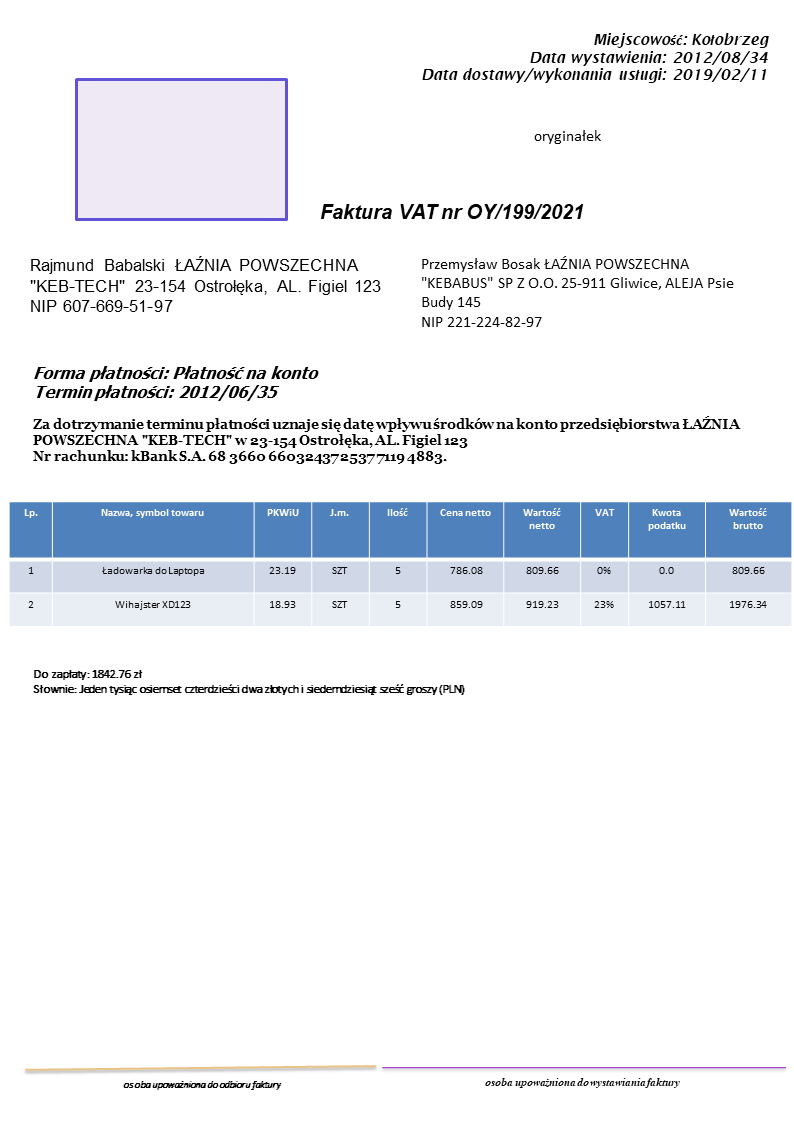Table: (7, 500, 794, 626)
TextBox: (31, 415, 744, 469), (419, 255, 737, 331), (26, 252, 383, 317), (417, 29, 772, 86), (31, 666, 468, 699), (30, 362, 322, 402), (318, 199, 586, 224), (482, 1073, 680, 1092), (121, 1077, 285, 1095), (530, 127, 602, 147)
